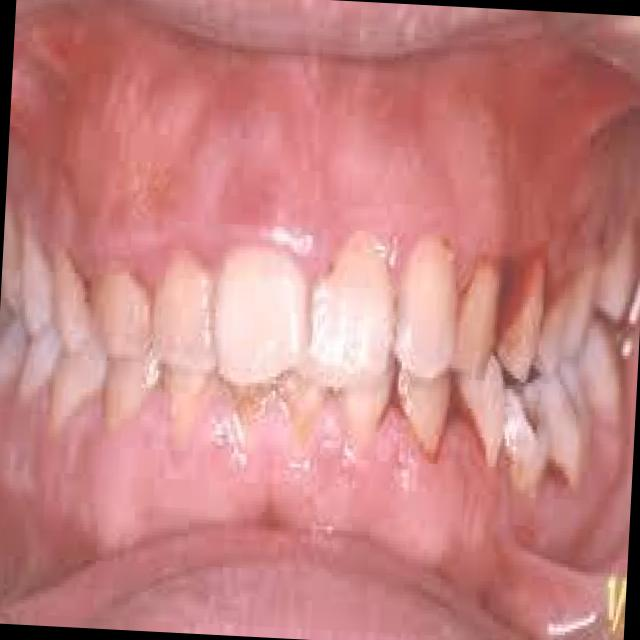Tooth: (215, 244, 308, 390), (308, 234, 396, 387), (393, 238, 457, 381), (150, 257, 220, 373), (498, 251, 548, 383), (527, 373, 580, 489), (579, 322, 622, 463), (89, 275, 153, 364), (452, 259, 500, 377), (458, 360, 507, 467), (103, 345, 163, 432), (334, 362, 395, 443), (398, 365, 449, 457), (165, 364, 217, 454), (502, 392, 547, 490), (52, 348, 104, 430), (52, 247, 90, 355), (595, 224, 637, 320), (560, 356, 593, 475), (20, 326, 66, 410), (20, 224, 55, 332), (562, 268, 595, 360), (534, 295, 564, 377), (1, 209, 21, 320), (0, 320, 28, 395)
